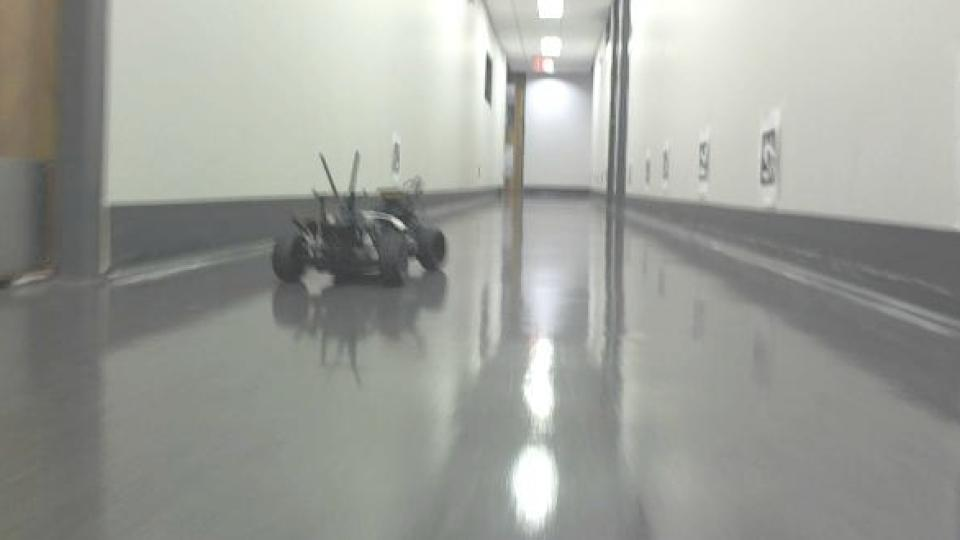car: (269, 144, 452, 292)
